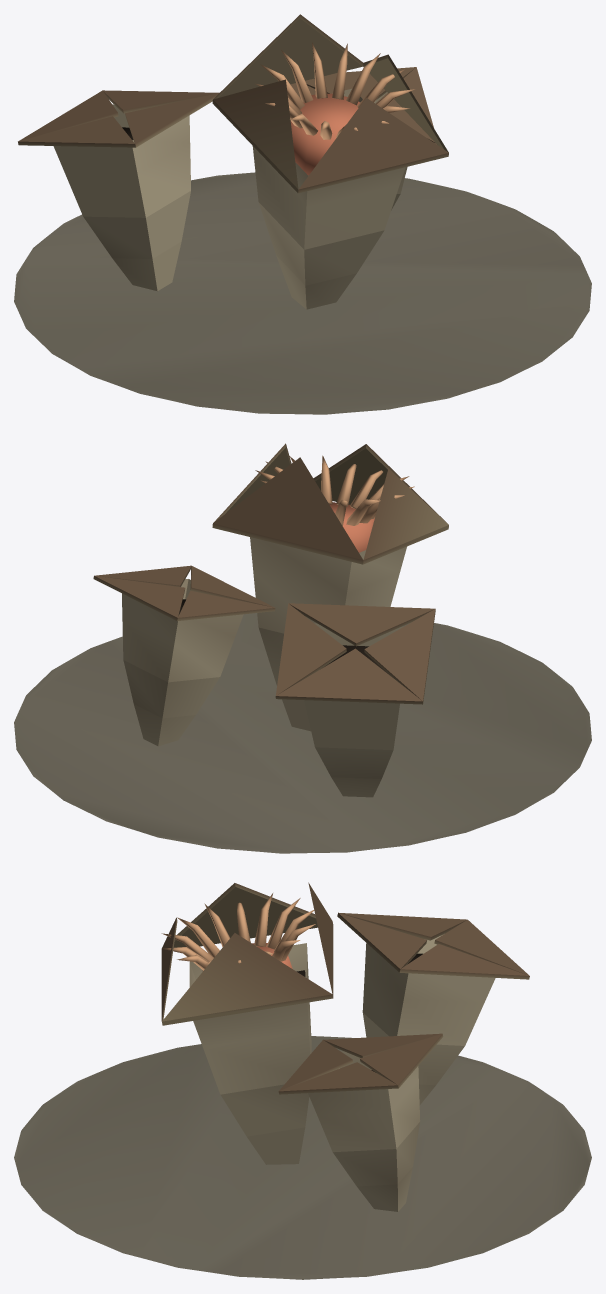
File: GoniophyllumPyramidale.fbx
The picture shows the model from 3 angles, top to bottom: view 1: azimuth 30°, elevation 25°; view 2: azimuth 150°, elevation 25°; view 3: azimuth 270°, elevation 25°; orthographic projection.
Parts seen in each view (by area): view 1: GoniophyllumPyramidale; view 2: GoniophyllumPyramidale; view 3: GoniophyllumPyramidale.
Part boxes in pixels (left/top/right/bottom): GoniophyllumPyramidale: left=14, top=14, right=591, bottom=414; GoniophyllumPyramidale: left=14, top=443, right=591, bottom=853; GoniophyllumPyramidale: left=14, top=882, right=591, bottom=1279.
Bounding box in the file's own units: 2 × 1.15 × 2.
